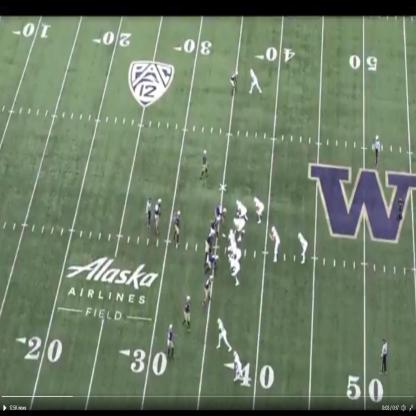CENTER: (225, 227, 238, 246)
DB: (153, 197, 163, 236), (166, 324, 174, 360), (229, 70, 240, 93), (201, 148, 208, 176)
LB: (175, 210, 182, 245), (184, 295, 191, 326), (205, 232, 214, 253)
QB: (273, 226, 282, 264)
SKILL: (216, 318, 227, 349), (249, 68, 260, 95), (232, 350, 241, 382), (298, 233, 307, 263), (256, 199, 264, 225)
